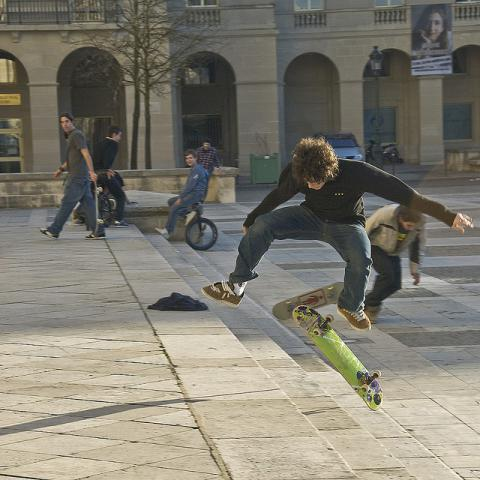car: (313, 131, 364, 161)
motorcycle: (70, 168, 120, 231)
